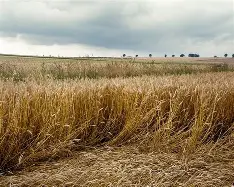crops: (0, 72, 231, 169), (0, 55, 231, 81), (1, 49, 115, 58), (121, 54, 169, 66), (5, 65, 28, 82), (206, 60, 228, 71)
